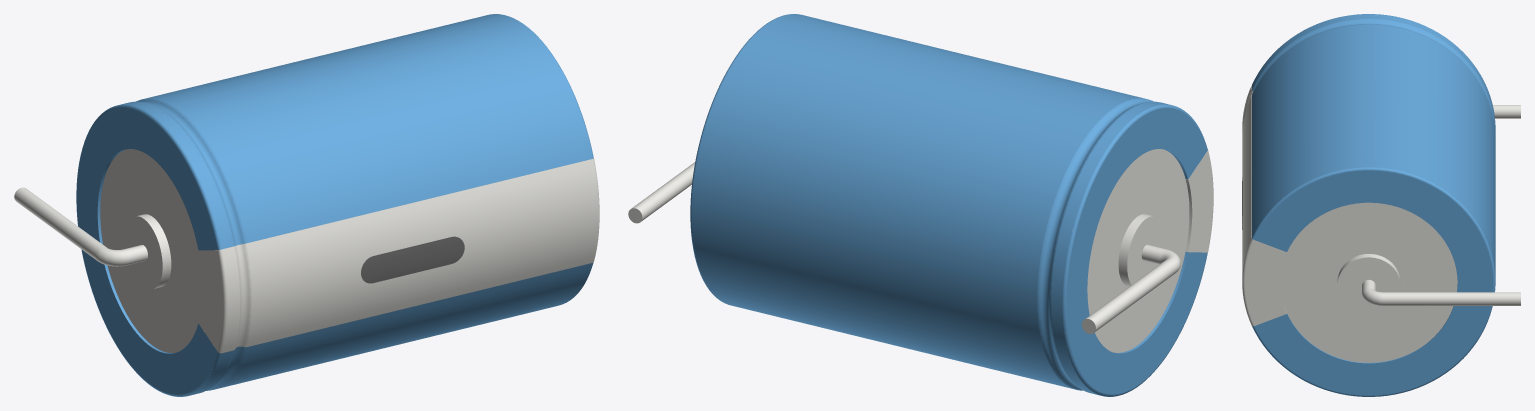
Rendered from CP_Axial_L29.0mm_D20.0mm_P35.00mm_Horizontal.glb.
3 renders of one model, left to right at view 1: azimuth 30°, elevation 25°; view 2: azimuth 150°, elevation 25°; view 3: azimuth 270°, elevation 25°, orthographic. The views are drawn at different scales.
Visible parts, largest first — view 1: Shape_IndexedFaceSet.009, Shape_IndexedFaceSet.039, Shape_IndexedFaceSet.006, Shape_IndexedFaceSet.054, Shape_IndexedFaceSet.018, Shape_IndexedFaceSet, Shape_IndexedFaceSet.031, Shape_IndexedFaceSet.005, Shape_IndexedFaceSet.052, Shape_IndexedFaceSet.041, Shape_IndexedFaceSet.003, Shape_IndexedFaceSet.025 (+7 smaller); view 2: Shape_IndexedFaceSet.009, Shape_IndexedFaceSet.006, Shape_IndexedFaceSet.054, Shape_IndexedFaceSet, Shape_IndexedFaceSet.005, Shape_IndexedFaceSet.003, Shape_IndexedFaceSet.031, Shape_IndexedFaceSet.041, Shape_IndexedFaceSet.052, Shape_IndexedFaceSet.007, Shape_IndexedFaceSet.045, Shape_IndexedFaceSet.002 (+2 smaller); view 3: Shape_IndexedFaceSet.009, Shape_IndexedFaceSet.012, Shape_IndexedFaceSet.049, Shape_IndexedFaceSet.036, Shape_IndexedFaceSet.047, Shape_IndexedFaceSet.011, Shape_IndexedFaceSet.045, Shape_IndexedFaceSet.039, Shape_IndexedFaceSet, Shape_IndexedFaceSet.005, Shape_IndexedFaceSet.002, Shape_IndexedFaceSet.041 (+3 smaller).
Boxes of the visible parts, x1,y1,x2,y2 form: Shape_IndexedFaceSet.009: [146, 14, 592, 388]; Shape_IndexedFaceSet.039: [247, 159, 597, 346]; Shape_IndexedFaceSet.006: [76, 108, 217, 394]; Shape_IndexedFaceSet.054: [100, 149, 202, 352]; Shape_IndexedFaceSet.018: [361, 236, 464, 283]; Shape_IndexedFaceSet: [121, 101, 232, 395]; Shape_IndexedFaceSet.031: [198, 250, 223, 351]; Shape_IndexedFaceSet.005: [138, 100, 243, 389]; Shape_IndexedFaceSet.052: [125, 216, 162, 289]; Shape_IndexedFaceSet.041: [14, 187, 106, 260]; Shape_IndexedFaceSet.003: [76, 104, 221, 396]; Shape_IndexedFaceSet.025: [222, 247, 238, 353]; Shape_IndexedFaceSet.009: [692, 14, 1145, 388]; Shape_IndexedFaceSet.006: [1066, 108, 1207, 394]; Shape_IndexedFaceSet.054: [1087, 149, 1189, 352]; Shape_IndexedFaceSet: [1051, 101, 1170, 395]; Shape_IndexedFaceSet.005: [1040, 100, 1151, 389]; Shape_IndexedFaceSet.003: [1062, 104, 1207, 396]; Shape_IndexedFaceSet.031: [1188, 151, 1213, 252]; Shape_IndexedFaceSet.041: [1085, 259, 1177, 332]; Shape_IndexedFaceSet.052: [1127, 216, 1164, 284]; Shape_IndexedFaceSet.007: [1037, 98, 1153, 390]; Shape_IndexedFaceSet.045: [631, 162, 695, 221]; Shape_IndexedFaceSet.002: [1049, 101, 1156, 389]; Shape_IndexedFaceSet.009: [1252, 24, 1495, 277]; Shape_IndexedFaceSet.012: [1254, 170, 1492, 395]; Shape_IndexedFaceSet.049: [1280, 202, 1457, 362]; Shape_IndexedFaceSet.036: [1245, 240, 1286, 325]; Shape_IndexedFaceSet.047: [1337, 257, 1400, 314]; Shape_IndexedFaceSet.011: [1252, 167, 1495, 396]; Shape_IndexedFaceSet.045: [1383, 292, 1520, 305]; Shape_IndexedFaceSet.039: [1242, 96, 1251, 273]; Shape_IndexedFaceSet: [1252, 14, 1495, 129]; Shape_IndexedFaceSet.005: [1253, 21, 1491, 111]; Shape_IndexedFaceSet.002: [1252, 18, 1495, 134]; Shape_IndexedFaceSet.041: [1493, 105, 1520, 118].
Bounding box in the file's own units: 14.21 × 7.87 × 8.67.
